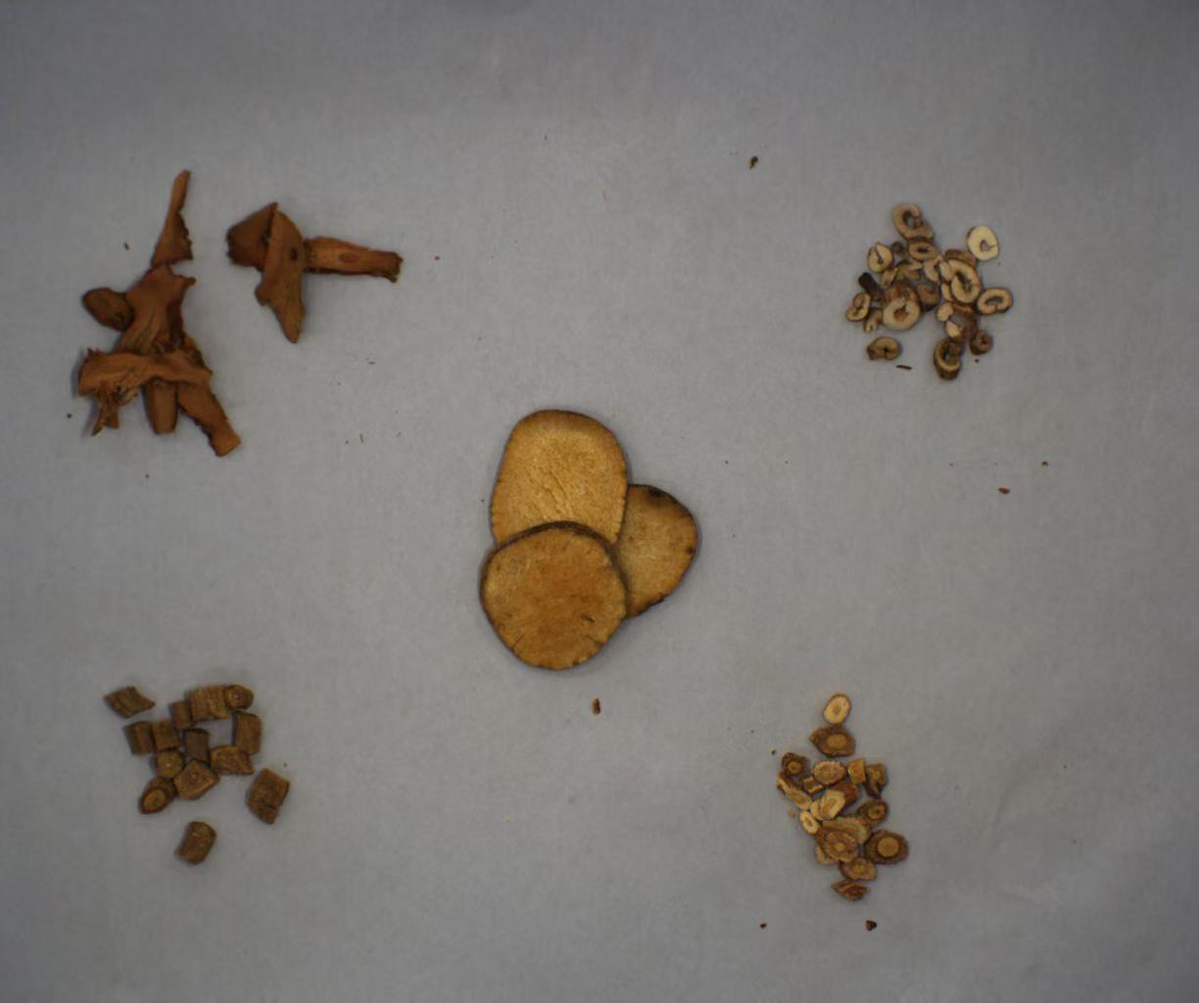banlangen: (758, 689, 922, 917)
gaoliangjiang: (12, 157, 419, 464)
mudanpi: (841, 188, 1037, 397)
niuxi: (83, 670, 337, 873)
zexie: (442, 392, 703, 674)
